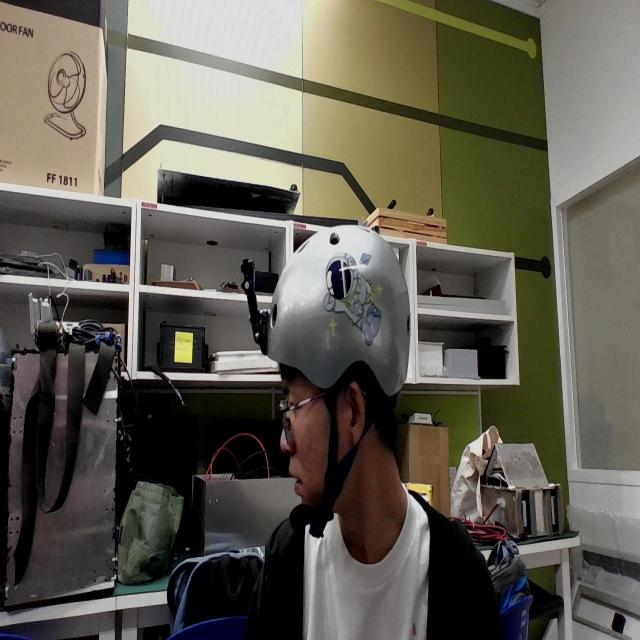With Helmet: (240, 194, 450, 544)
